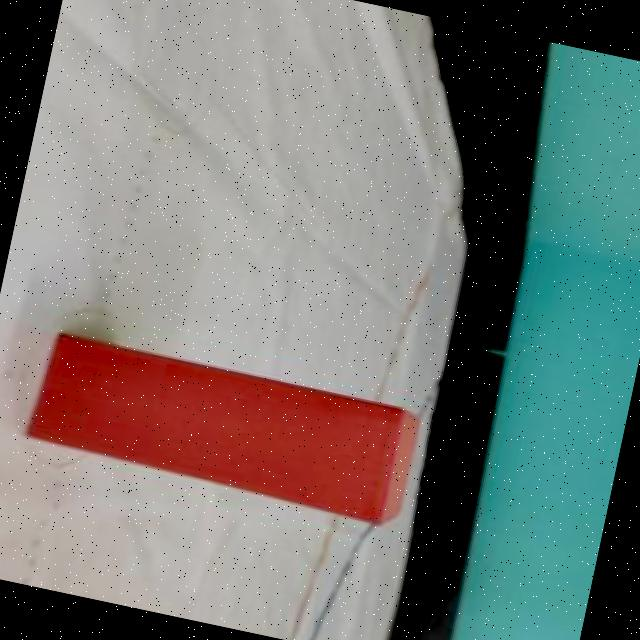redbox: (24, 332, 421, 520)
